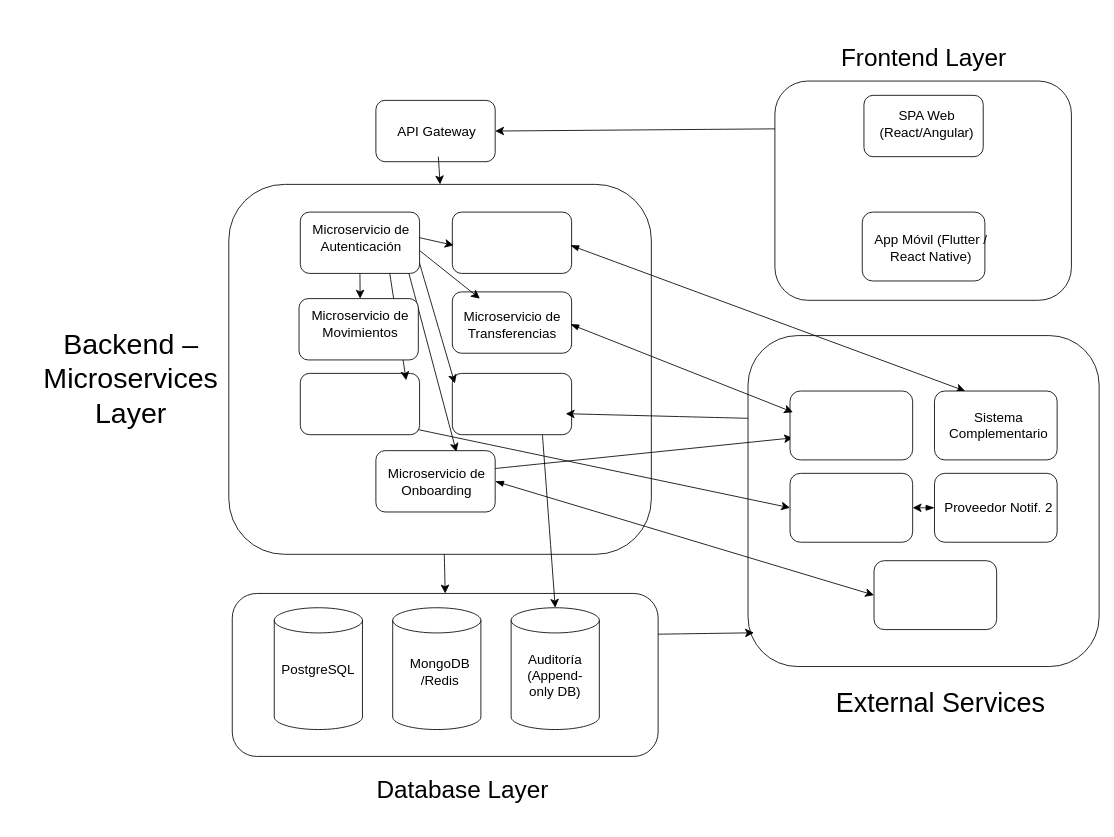
This 1114x837 diagram has some shape labels left out. The shapes that lost their labels are listed below. From the top down, each one's centre as x and y in pixels, then its label:
At (x=512, y=242): "Microservicio de Clientes".
At (x=359, y=404): "Microservicio de Notificaciones".
At (x=512, y=404): "Microservicio de Auditoría".
At (x=851, y=425): "Core Bancario".
At (x=851, y=507): "Proveedor Notif. 1".
At (x=935, y=595): "Servicio Biométrico (Face Recognition)".
